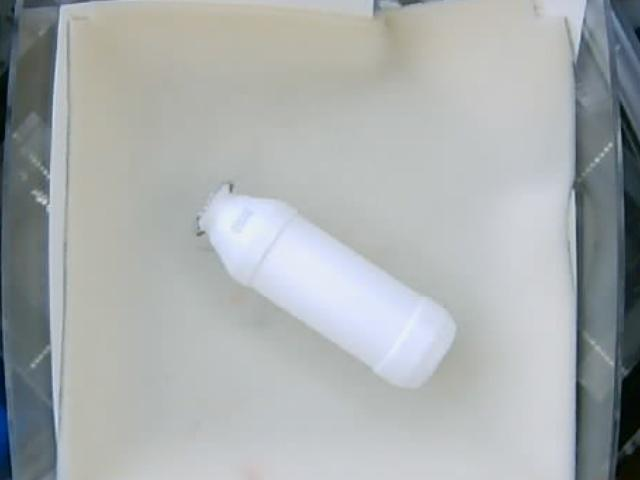Bottle: (193, 179, 455, 389)
